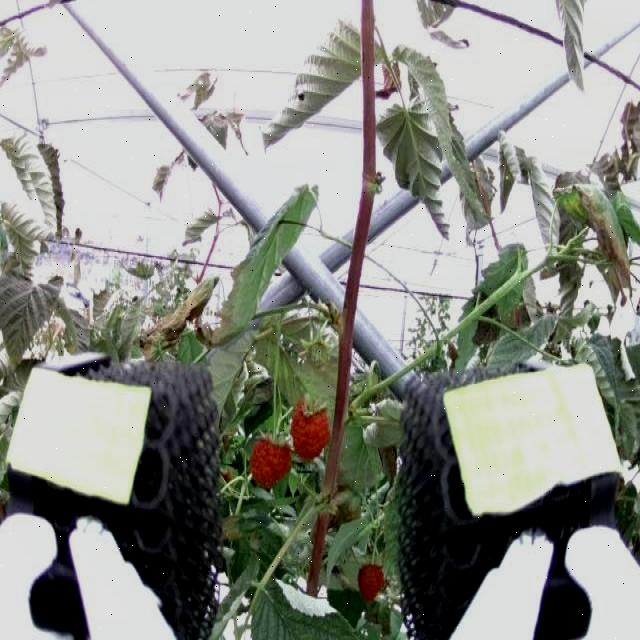Riped berries: (288, 397, 332, 457), (248, 432, 292, 490), (353, 551, 388, 602)
